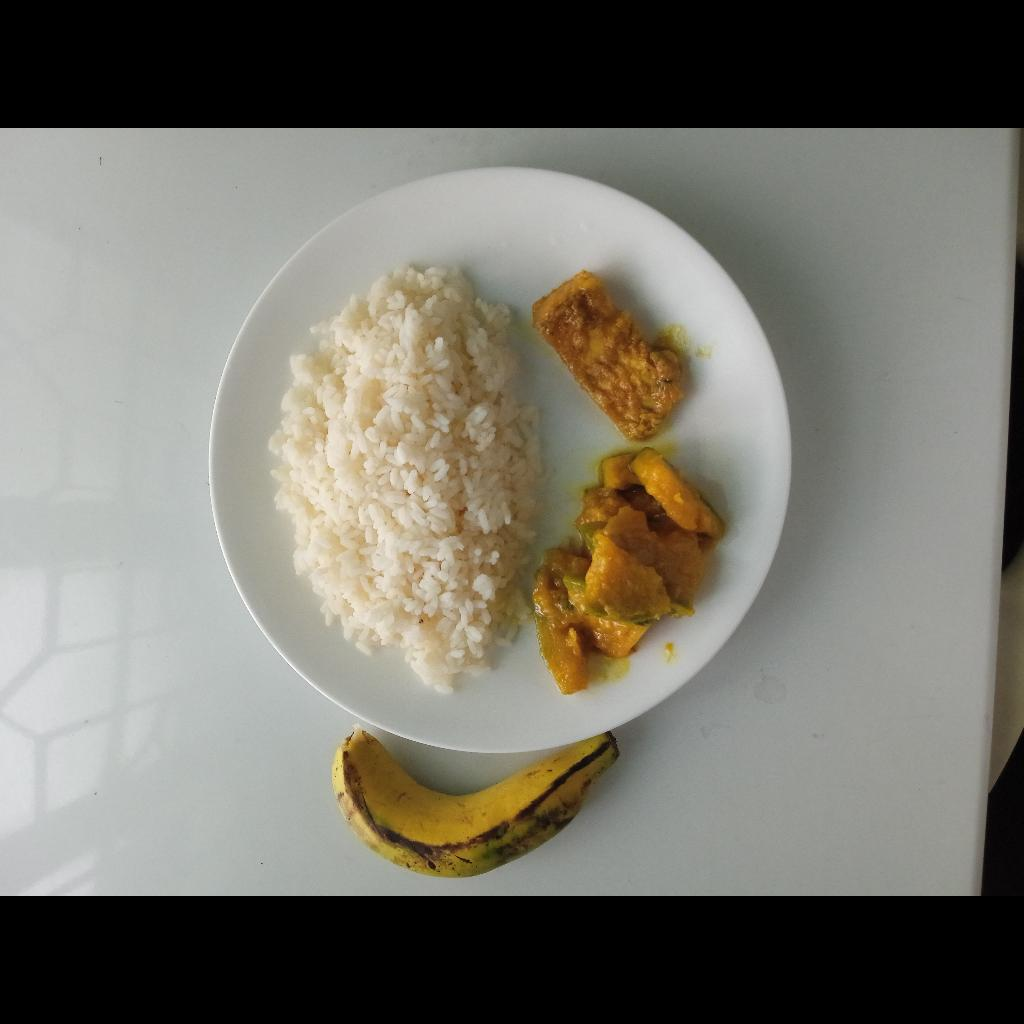banana: (333, 734, 621, 877)
fish: (536, 269, 688, 442)
kumra-vaji: (536, 452, 726, 693)
rice: (271, 261, 544, 687)
